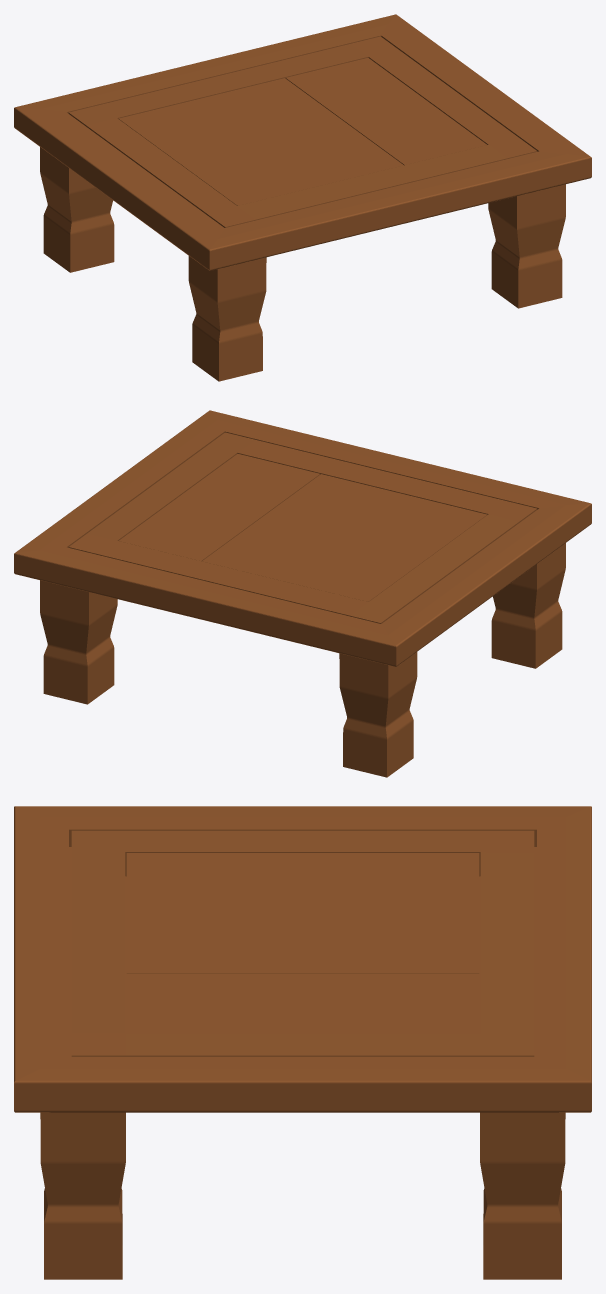
The model's file is Mesa5.fbx.
3 renders of one model, top to bottom at view 1: azimuth 30°, elevation 25°; view 2: azimuth 150°, elevation 25°; view 3: azimuth 270°, elevation 25°, orthographic. The views are drawn at different scales.
Visible parts, largest first — view 1: Cube.002; view 2: Cube.002; view 3: Cube.002.
Part boxes in pixels (x1,y1,x2,y2): Cube.002: [14, 14, 591, 381]; Cube.002: [14, 410, 591, 777]; Cube.002: [14, 806, 591, 1279].
Bounding box in the file's own units: 241 × 86.8 × 213.
